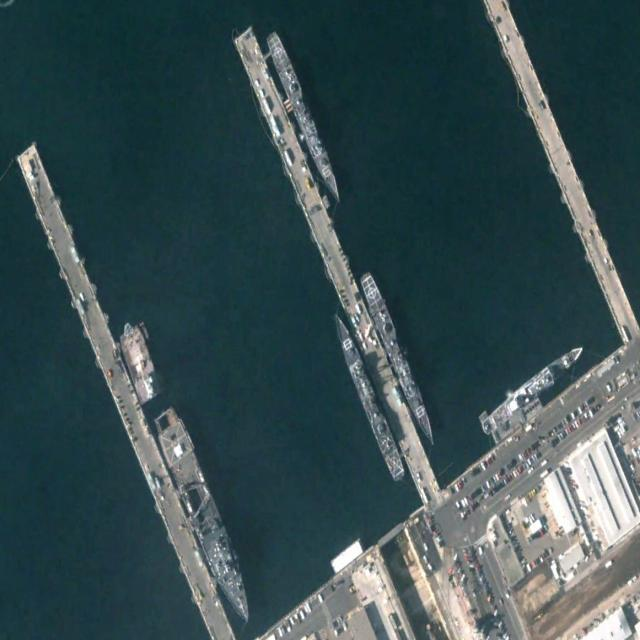Frigate: (358, 268, 439, 453), (265, 27, 345, 209), (329, 305, 407, 486)
Landing: (151, 403, 260, 633)
Other Ship: (478, 337, 587, 440), (116, 317, 162, 406)
